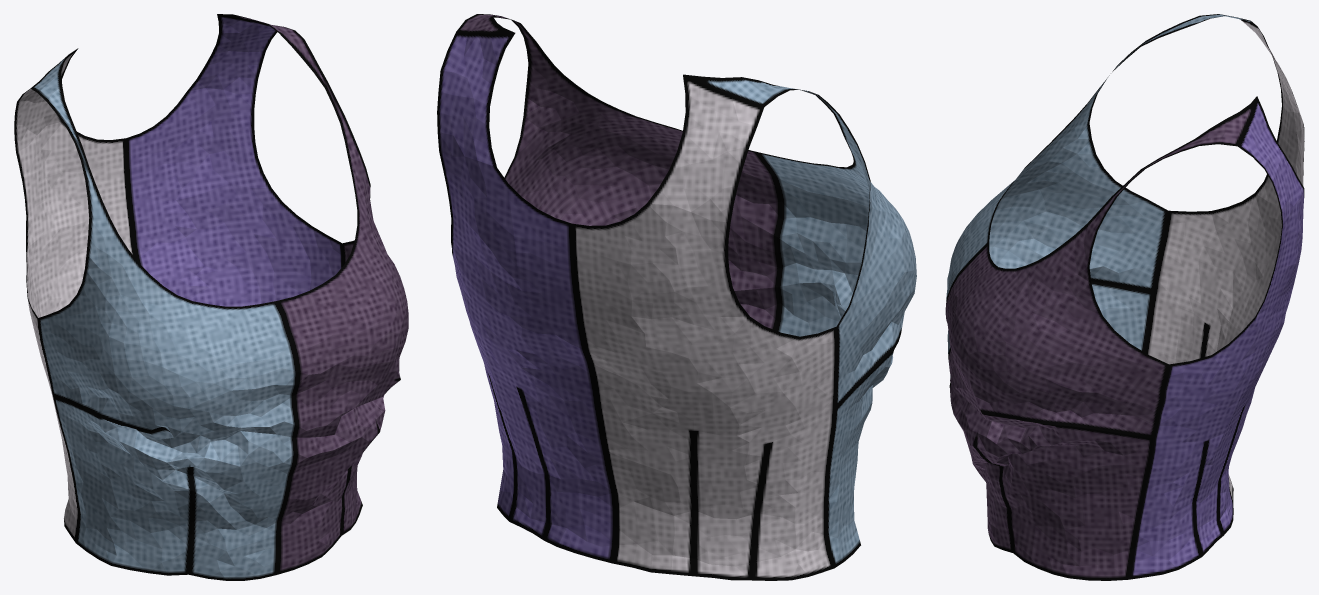
File: tank_tight10_sim.obj
3 renders of one model, left to right at view 1: azimuth 30°, elevation 25°; view 2: azimuth 150°, elevation 25°; view 3: azimuth 270°, elevation 25°, orthographic. The views are drawn at different scales.
Size of the model in its own units: 21.28 by 29.93 by 20.9.
Materials: 1 (1 with a texture image).
